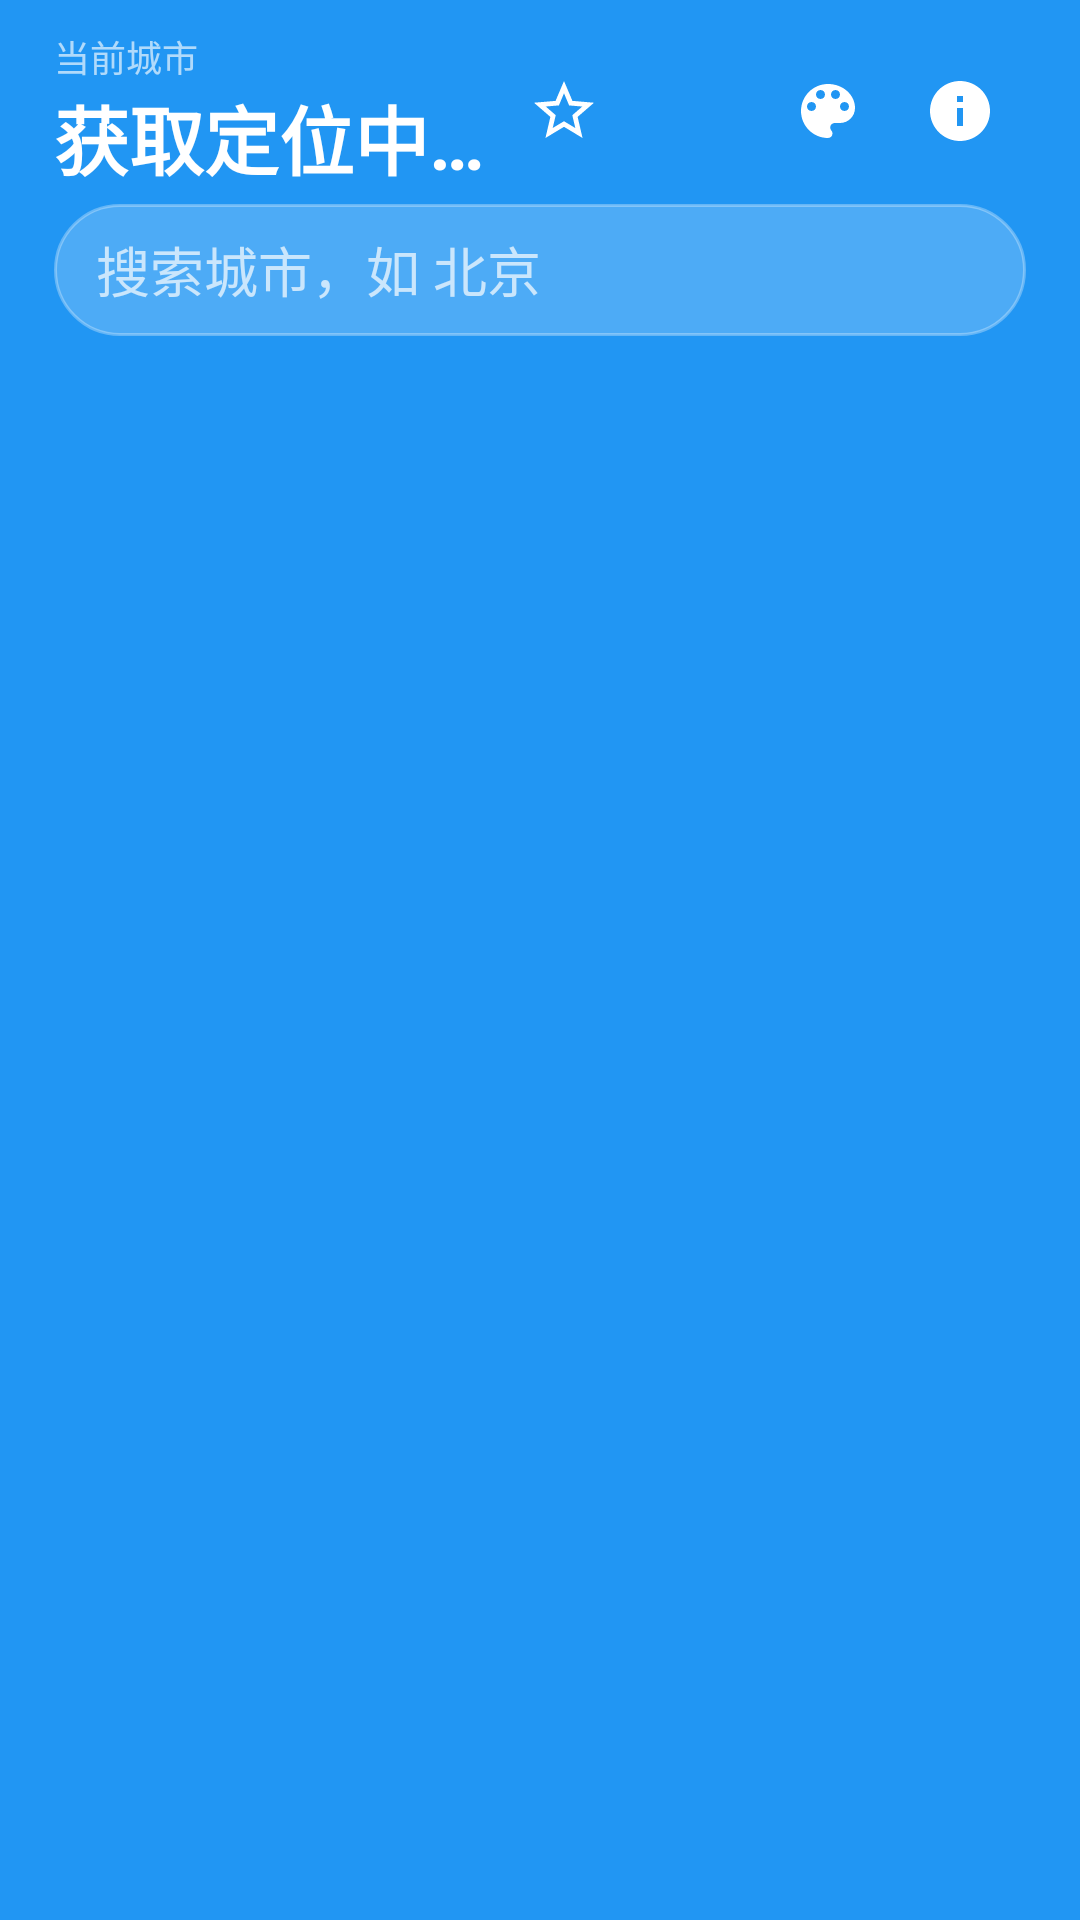

Icons on this 1080*1920 Android screen, each with the point to tap as (x=x, y=y):
关于与隐私: (x=960, y=111)
切换主题: (x=828, y=111)
收藏城市: (x=564, y=109)
